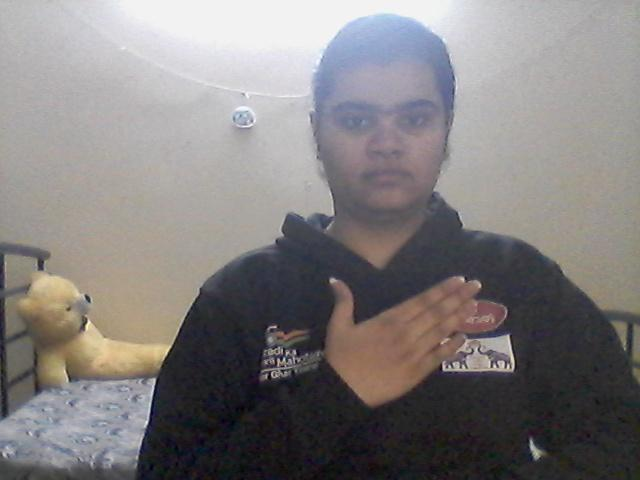please: (316, 265, 484, 404)
